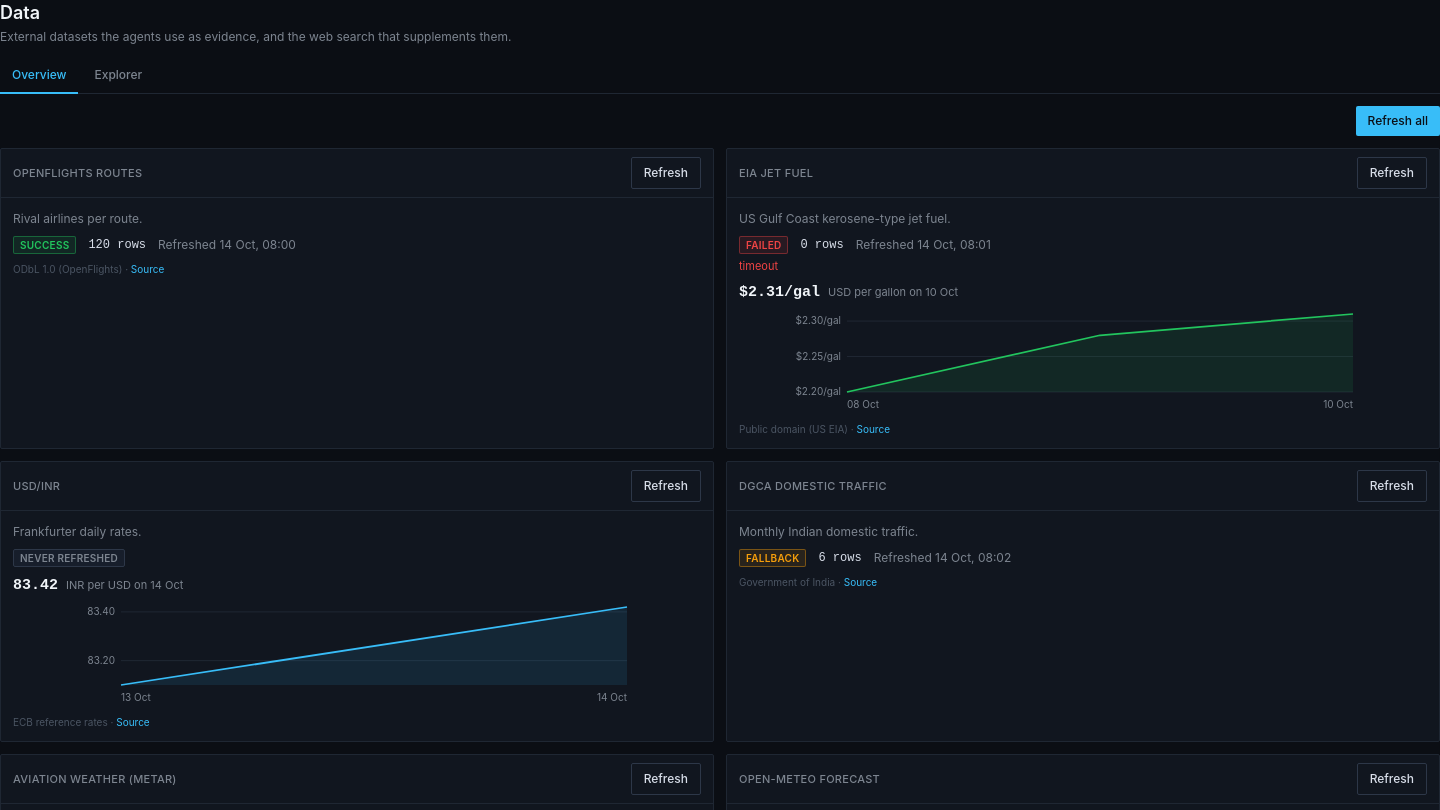
it: DataPage › shows an error when the refresh fails
Check: the element with test id "dataset-openflights" is shown, box [0,148,714,449]
Step 1. Click the button "Refresh all" → (1398, 121), box [1356,106,1439,136]
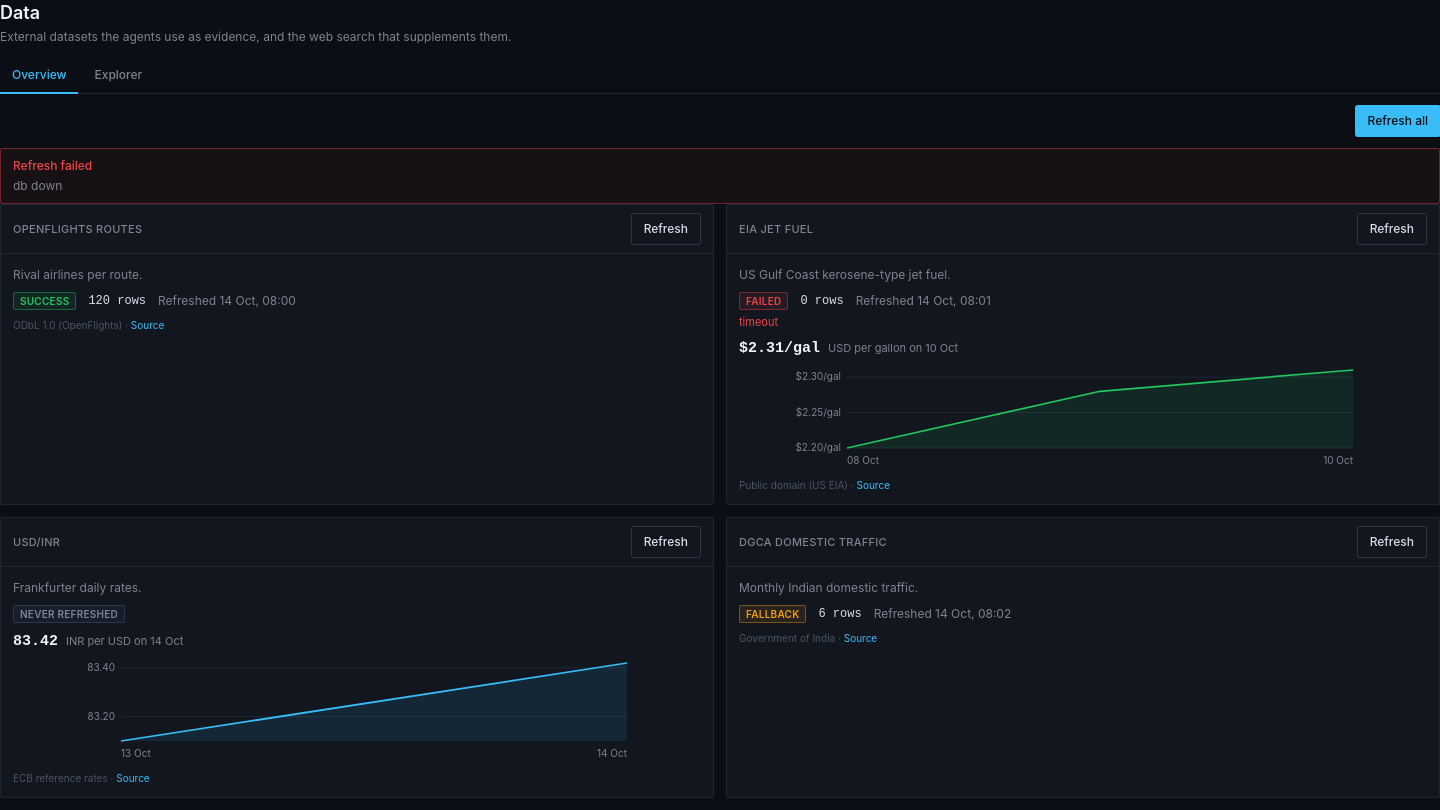
Check: the text "Refresh failed" is shown, box [13,158,92,173]
Check: the text "db down" is shown, box [13,178,62,193]
